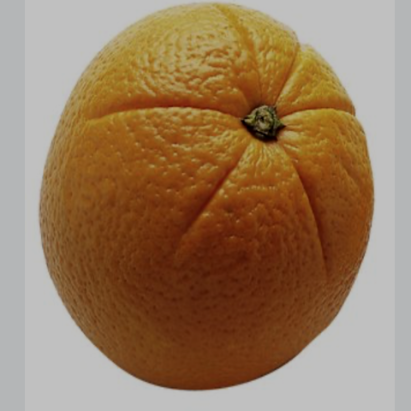orange: (27, 0, 404, 396)
